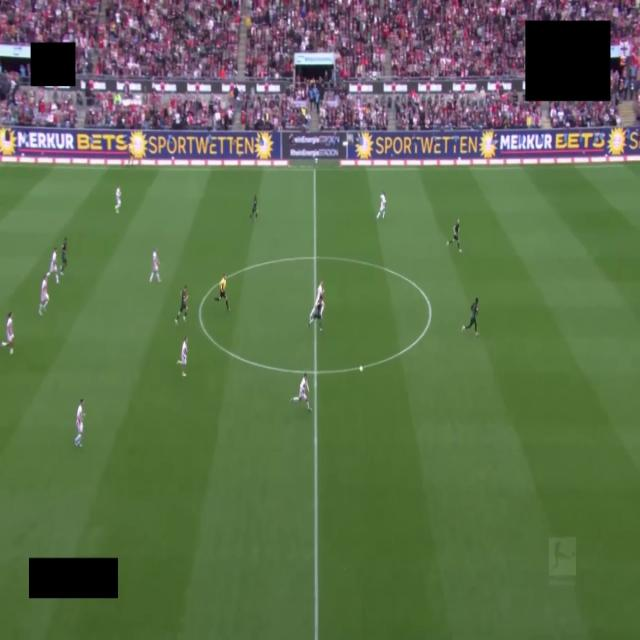ball: (360, 366, 363, 372)
player: (291, 374, 311, 411), (309, 281, 324, 324), (462, 298, 478, 335), (309, 296, 324, 331), (175, 286, 188, 324), (2, 312, 13, 354), (447, 220, 461, 252), (75, 399, 84, 447), (177, 337, 187, 376), (47, 248, 58, 283), (150, 249, 161, 282), (39, 275, 48, 315), (60, 238, 67, 275), (377, 192, 385, 219), (316, 281, 324, 303), (115, 186, 121, 213), (250, 196, 257, 219), (128, 143, 134, 165)
referee: (214, 274, 229, 311)
